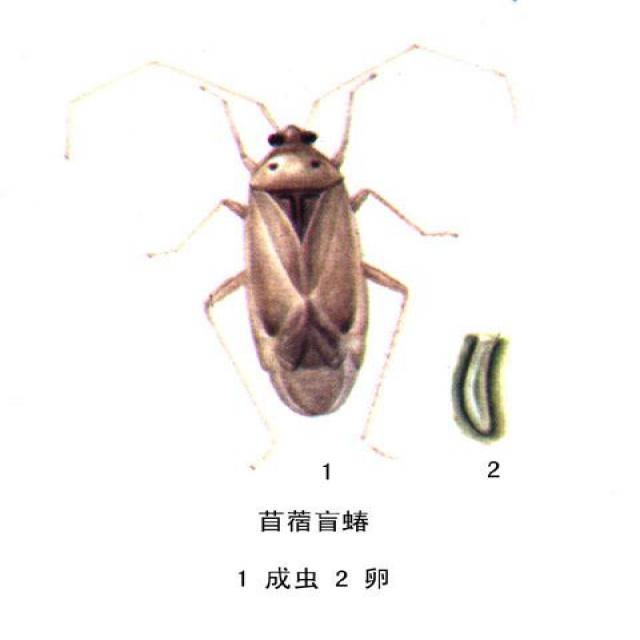Miridae-Adult-: (106, 39, 453, 458)
